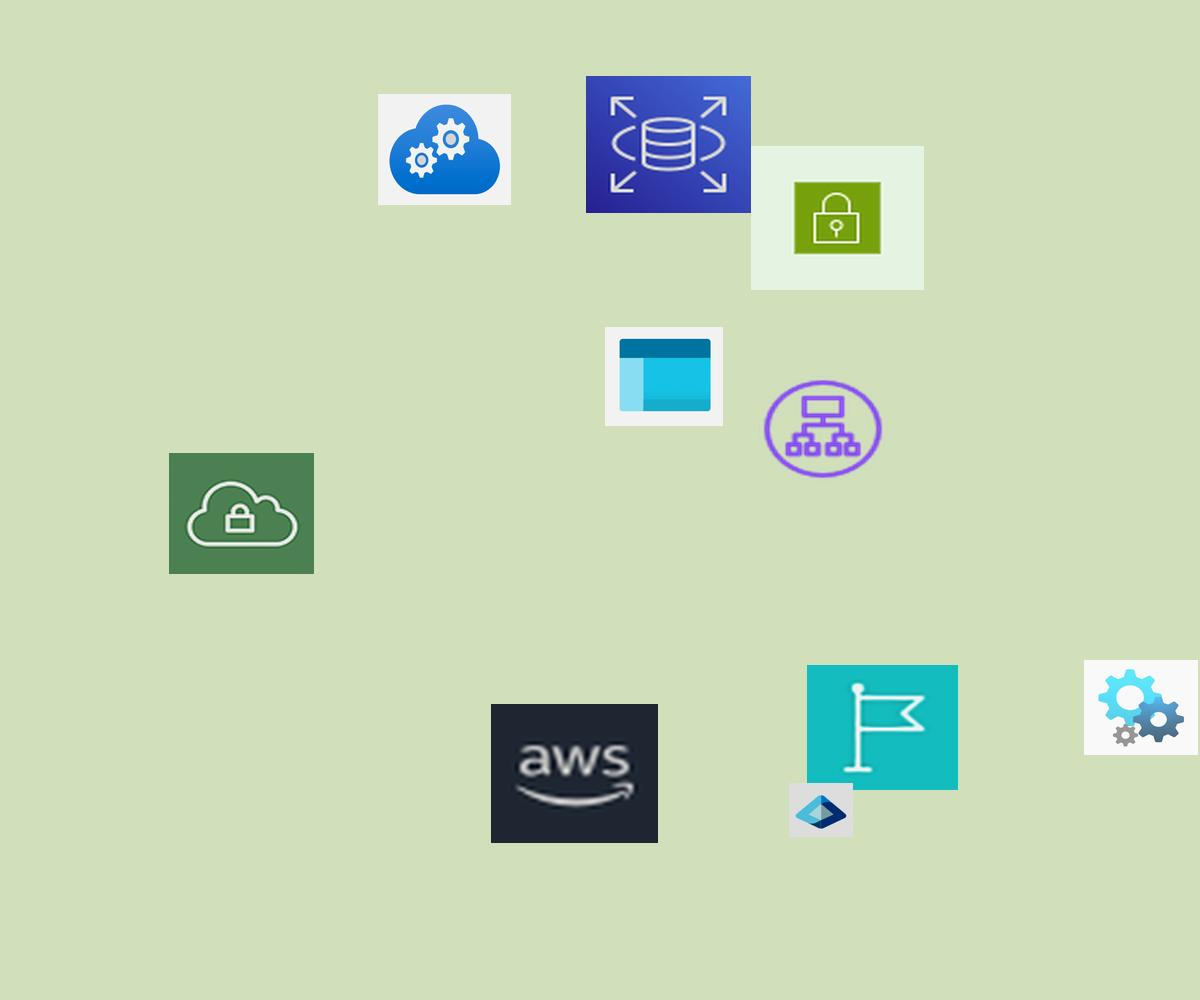AWS-Cloud-logo: (491, 704, 658, 843)
AWS-Private_vpc: (169, 453, 314, 574)
AWS-Public-subnet: (751, 146, 924, 290)
AWS-RDS: (586, 76, 751, 213)
AWS-Region: (807, 665, 958, 790)
AWS-Res_Elastic-Load-Balancing_Application-Load-Balancer: (759, 376, 887, 482)
Azure_api: (1084, 660, 1198, 755)
Azure_cloud_services: (378, 94, 511, 205)
Azure_management-portal: (605, 327, 723, 426)
Azure_microsoft_entra: (789, 783, 853, 837)
